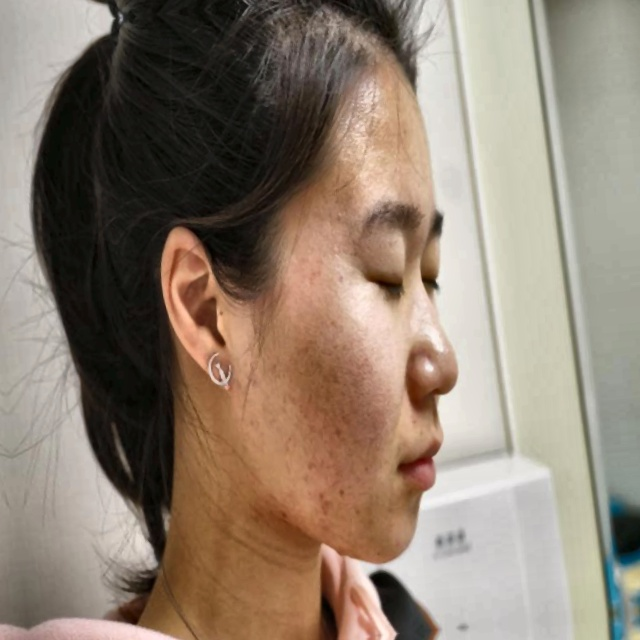comedone: (319, 482, 338, 508)
